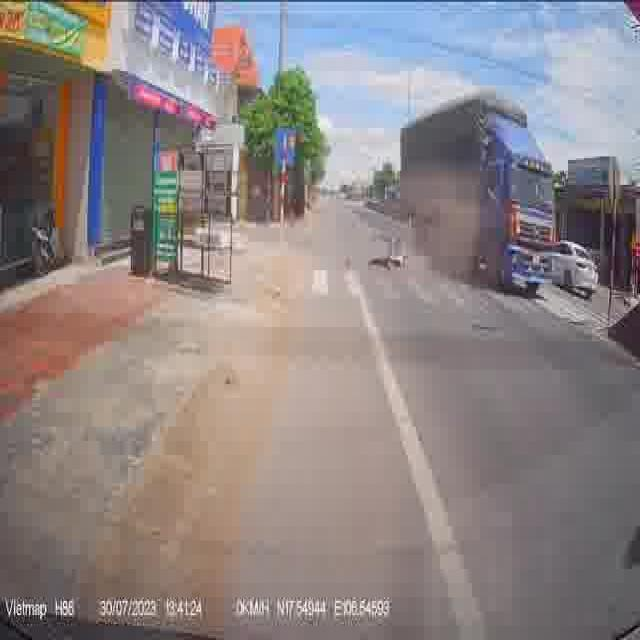multiple_accident: (362, 85, 559, 309)
